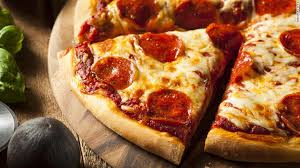pizza: (62, 26, 257, 155)
